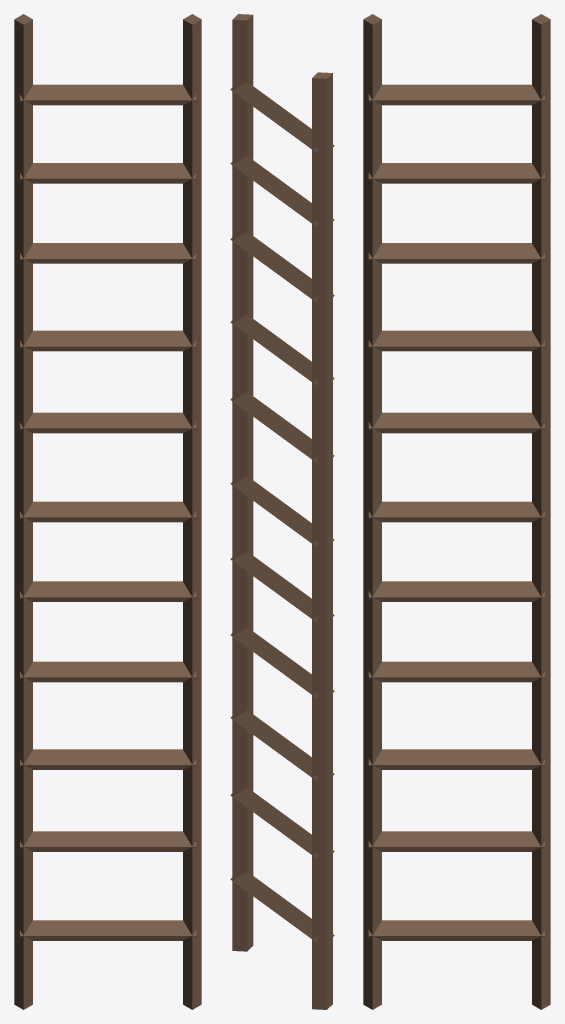
File: Ladder.fbx
The picture shows the model from 3 angles, left to right: view 1: azimuth 90°, elevation 25°; view 2: azimuth 210°, elevation 25°; view 3: azimuth 270°, elevation 25°; orthographic projection. The views are drawn at different scales.
Parts seen in each view (by area): view 1: Ladder2; view 2: Ladder2; view 3: Ladder2.
Boxes of the visible parts, x1,y1,x2,y2 form: Ladder2: (14,14,201,1009); Ladder2: (230,14,334,1009); Ladder2: (363,14,550,1009).
Bounding box in the file's own units: 0.3969 × 16.85 × 2.91.
